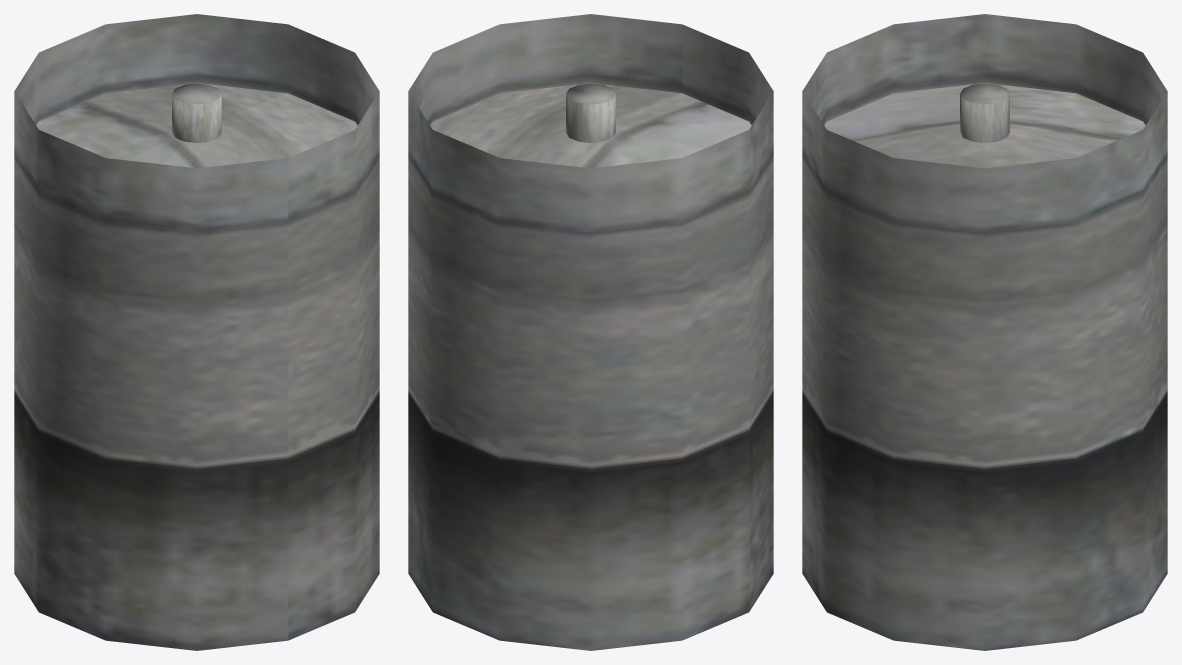
Rendered from keg.fbx.
The picture shows the model from 3 angles, left to right: view 1: azimuth 30°, elevation 25°; view 2: azimuth 150°, elevation 25°; view 3: azimuth 270°, elevation 25°; orthographic projection.
Visible parts, largest first — view 1: mesh_0; view 2: mesh_0; view 3: mesh_0.
Boxes of the visible parts, x1,y1,x2,y2 form: mesh_0: (14,14,379,650); mesh_0: (408,14,773,650); mesh_0: (802,14,1167,650).
Bounding box in the file's own units: 54.19 × 79.03 × 54.19.
1 material, 1 textured.
